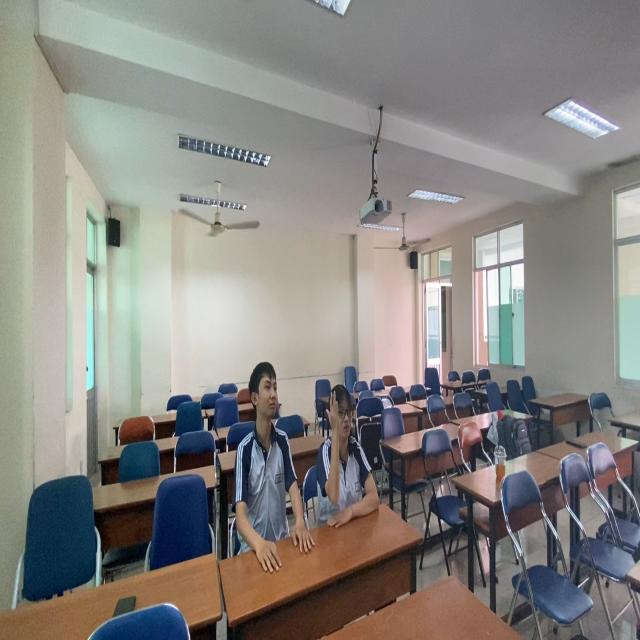raise_hand: (315, 378, 387, 537)
